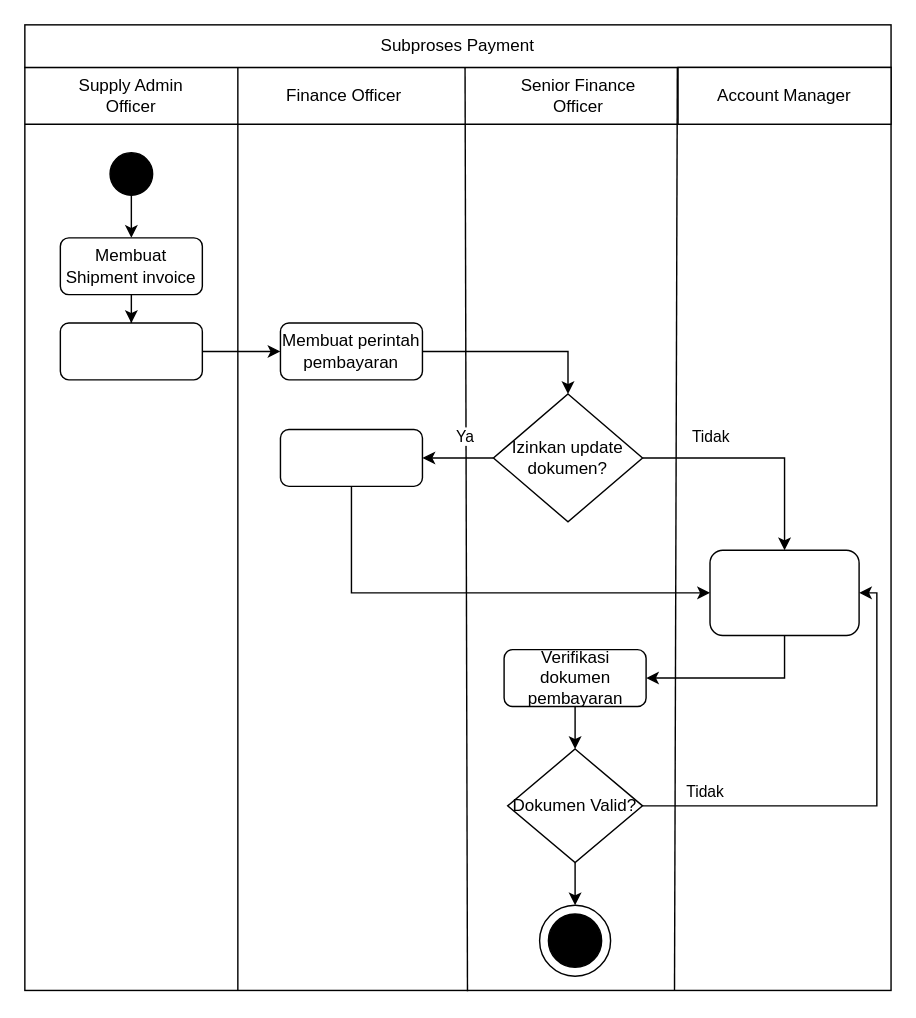
Some shapes in this 916 by 1018 pixel diagram are drawn without their labels. Here are the shapes that lost their labels. From the top down, the centre of each, then its label:
point (130, 351): Membuat Freight invoice
point (350, 457): Update Dokumen
point (784, 592): Memproses kelebihan atau kekurangan pembayaran client
